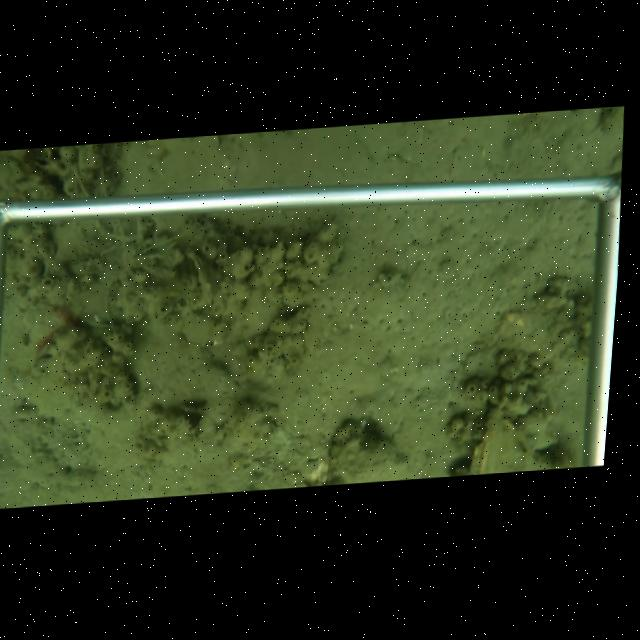Oyster-Closed: (184, 249, 215, 310)
Oyster-Indeterminate: (181, 287, 283, 349), (283, 211, 342, 306)
